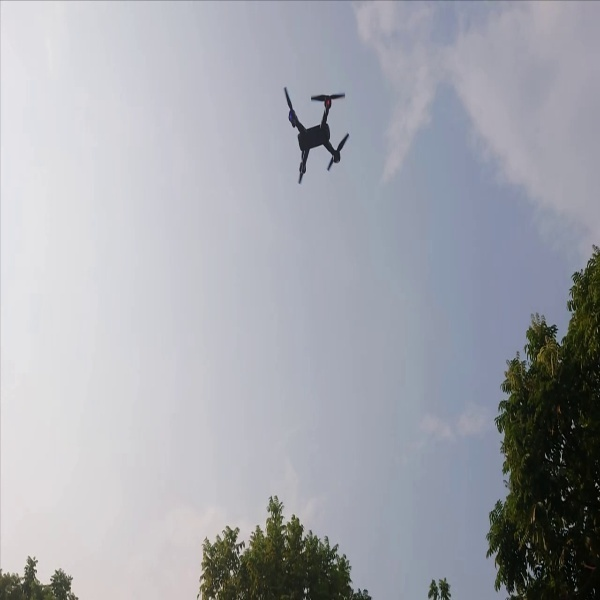drone: (277, 79, 356, 185)
